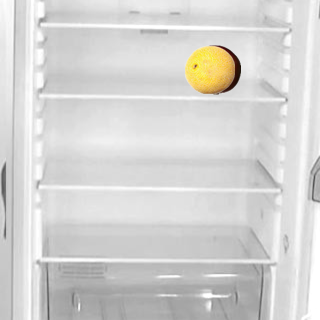Apple Braeburn: (190, 44, 240, 94)
Cantaloupe 1: (184, 44, 234, 94)
